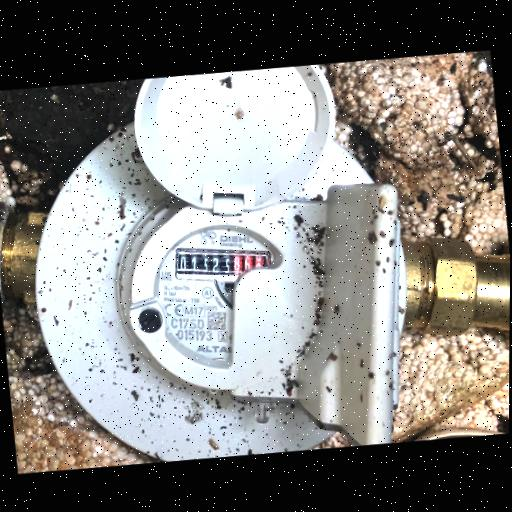0: (178, 252, 191, 271)
1: (188, 252, 201, 272)
2: (208, 252, 222, 274)
5: (220, 253, 234, 275), (200, 253, 212, 274)
6: (242, 253, 254, 271)
8: (231, 254, 244, 273), (254, 254, 266, 267)
border_water_meter_number: (174, 240, 270, 289)
